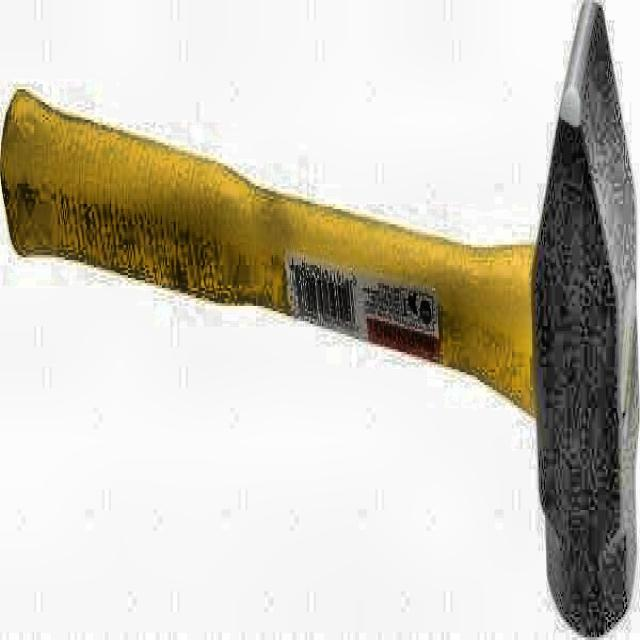hammer: (1, 3, 638, 638)
